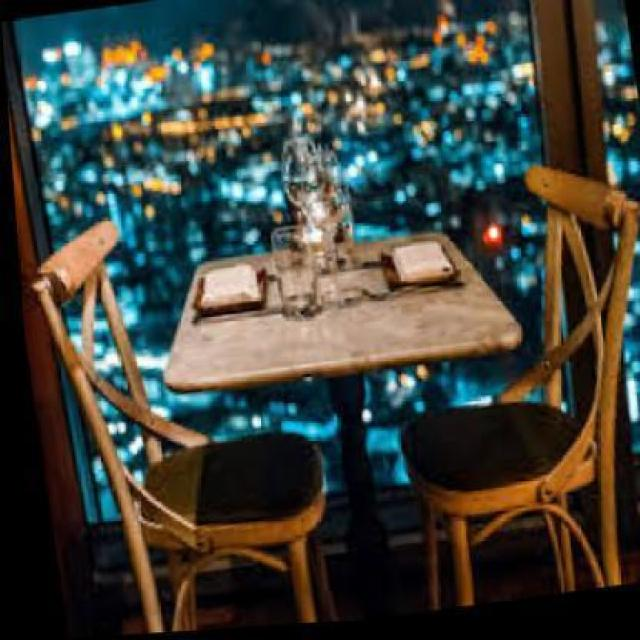tables: (162, 231, 523, 598)
